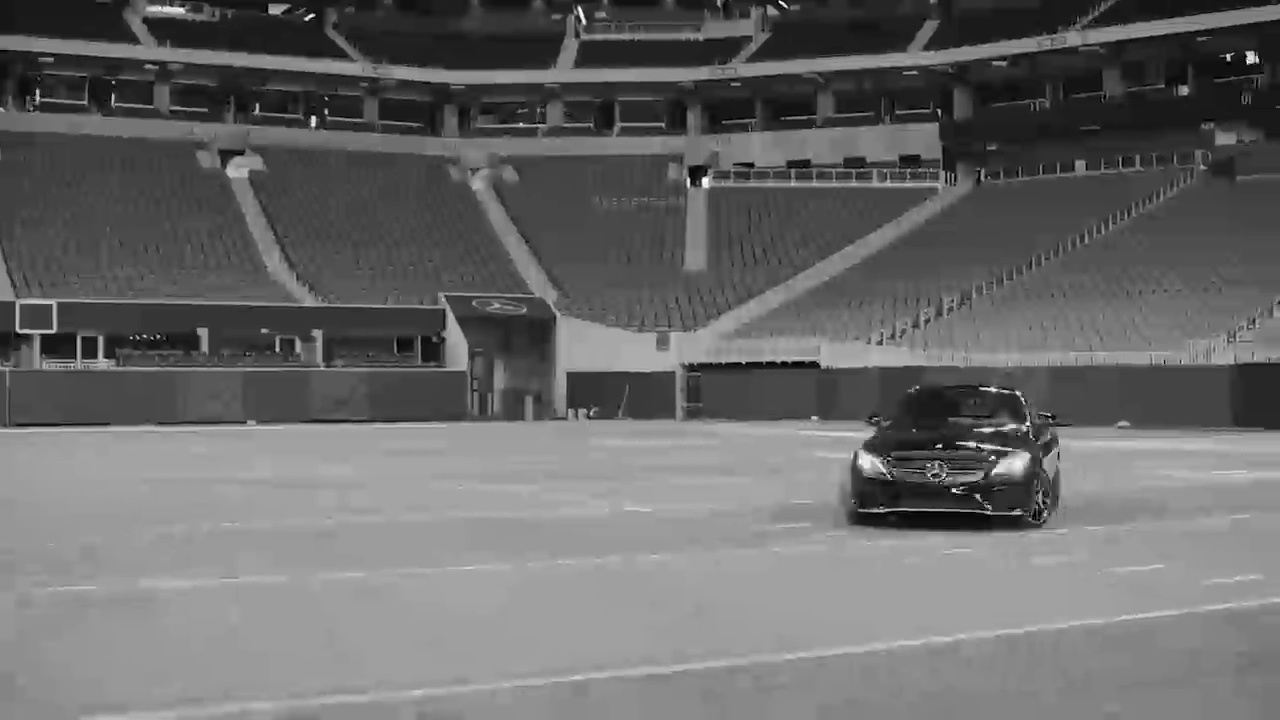car: (844, 380, 1070, 529)
